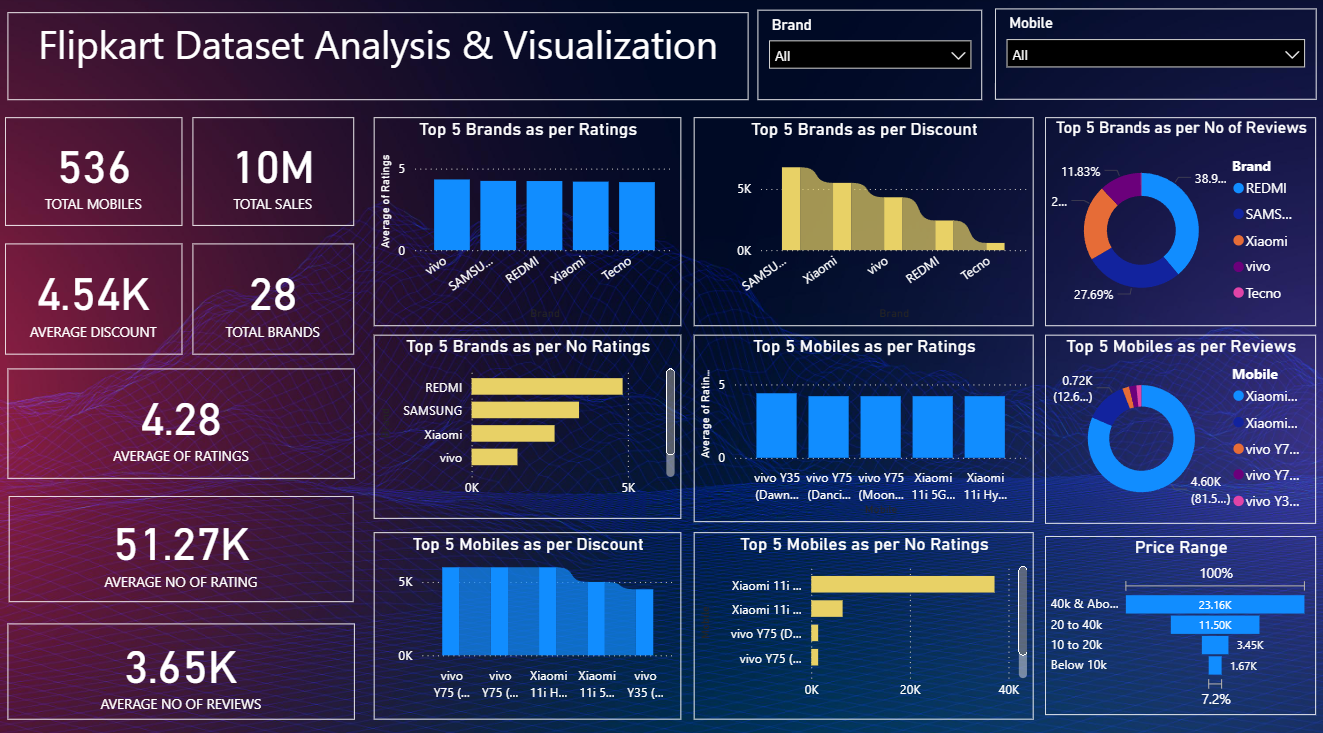

What the dashboard file says about the page in this screenshot:
{"tool":"powerbi","page":{"name":"Page 1","canvas":[1280,720],"ordinal":0},"visuals":[{"type":"card","fields":{"Values":["Flipkart.Average No of Rating"]},"box":[8.4,482.6,333,102.5],"z":0},{"type":"card","fields":{"Values":["Flipkart.Average No of Reviews"]},"box":[7.2,605.6,335.4,92.9],"z":1000},{"type":"card","fields":{"Values":["Flipkart.Average of Ratings"]},"box":[7.2,359.5,335.4,106.2],"z":2000},{"type":"card","fields":{"Values":["Flipkart.Total Brands"]},"box":[185.8,238.9,155.6,107.4],"z":3000},{"type":"card","fields":{"Values":["Avg(Flipkart.Total Discount)"]},"box":[4.8,238.9,171.3,107.4],"z":4000},{"type":"card","fields":{"Values":["Flipkart.Total Mobiles"]},"box":[4.8,117,171.3,105],"z":5000},{"type":"card","fields":{"Values":["Flipkart.Total Sales"]},"box":[185.8,117,155.6,105],"z":6000},{"type":"textbox","box":[7.2,15.7,715.4,84.5],"z":7000},{"type":"columnChart","title":"Top 5 Brands as per Ratings","fields":{"Category":["Flipkart.Brand"],"Y":["Flipkart.Average of Ratings"]},"box":[360.7,117,296.8,201.5],"z":8000},{"type":"ribbonChart","title":"Top 5 Brands as per Discount","fields":{"Category":["Flipkart.Brand"],"Y":["Avg(Flipkart.Total Discount)"]},"box":[669.6,117,328.2,201.5],"z":9000},{"type":"donutChart","title":"Top 5 Brands as per No of Reviews","fields":{"Category":["Flipkart.Brand"],"Y":["Avg(Flipkart.No_of_reviews)"]},"box":[1008.6,117,261.8,201.5],"z":10000},{"type":"barChart","title":"Top 5 Brands as per No Ratings","fields":{"Category":["Flipkart.Brand"],"Y":["Flipkart.Average No of Reviews"]},"box":[360.7,326.9,296.8,177.3],"z":11000},{"type":"ribbonChart","title":"Top 5 Mobiles as per Discount","fields":{"Category":["Flipkart.Mobile"],"Y":["Avg(Flipkart.Total Discount)"]},"box":[360.7,517.6,296.8,181],"z":12000},{"type":"columnChart","title":"Top 5 Mobiles as per Ratings","fields":{"Category":["Flipkart.Mobile"],"Y":["Flipkart.Average of Ratings"]},"box":[669.6,326.9,328.2,181],"z":13000},{"type":"barChart","title":"Top 5 Mobiles as per No Ratings","fields":{"Y":["Avg(Flipkart.No_of_ratings)"],"Category":["Flipkart.Mobile"]},"box":[669.6,517.6,328.2,181],"z":14000},{"type":"donutChart","title":"Top 5 Mobiles as per Reviews","fields":{"Category":["Flipkart.Mobile"],"Y":["Avg(Flipkart.No_of_reviews)"]},"box":[1008.6,326.9,261.8,182.2],"z":15000},{"type":"funnel","title":"Price Range","fields":{"Y":["Avg(Flipkart.Total Discount)"],"Category":["Flipkart.Price Range"]},"box":[1008.6,521.2,261.8,172.5],"z":16000},{"type":"slicer","title":"Top 5 Brands as per Discount","fields":{"Values":["Flipkart.Brand"]},"box":[731.1,13.3,217.2,86.9],"z":17000},{"type":"slicer","title":"Top 5 Brands as per Discount","fields":{"Values":["Flipkart.Mobile"]},"box":[960.3,12.1,310.1,88.1],"z":18000}]}

Visuals, with their boxes in screenshot pixels (x1, y1, x2, y2), scaled from the page's 1280x720 canvas onto the 1323x733 screenshot:
card - Flipkart.Average No of Rating: [9,491,353,596]
card - Flipkart.Average No of Reviews: [7,617,354,711]
card - Flipkart.Average of Ratings: [7,366,354,474]
card - Flipkart.Total Brands: [192,243,353,353]
card - Avg(Flipkart.Total Discount): [5,243,182,353]
card - Flipkart.Total Mobiles: [5,119,182,226]
card - Flipkart.Total Sales: [192,119,353,226]
textbox: [7,16,747,102]
"Top 5 Brands as per Ratings" columnChart: [373,119,680,324]
"Top 5 Brands as per Discount" ribbonChart: [692,119,1031,324]
"Top 5 Brands as per No of Reviews" donutChart: [1042,119,1313,324]
"Top 5 Brands as per No Ratings" barChart: [373,333,680,513]
"Top 5 Mobiles as per Discount" ribbonChart: [373,527,680,711]
"Top 5 Mobiles as per Ratings" columnChart: [692,333,1031,517]
"Top 5 Mobiles as per No Ratings" barChart: [692,527,1031,711]
"Top 5 Mobiles as per Reviews" donutChart: [1042,333,1313,518]
"Price Range" funnel: [1042,531,1313,706]
"Top 5 Brands as per Discount" slicer: [756,14,980,102]
"Top 5 Brands as per Discount" slicer: [993,12,1313,102]
